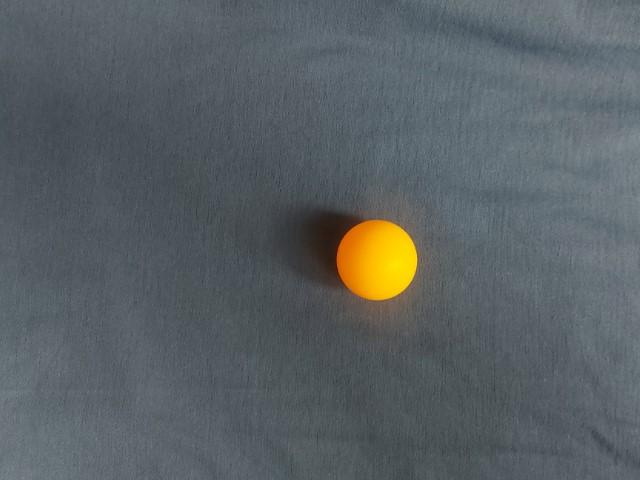oball: (218, 176, 308, 265)
